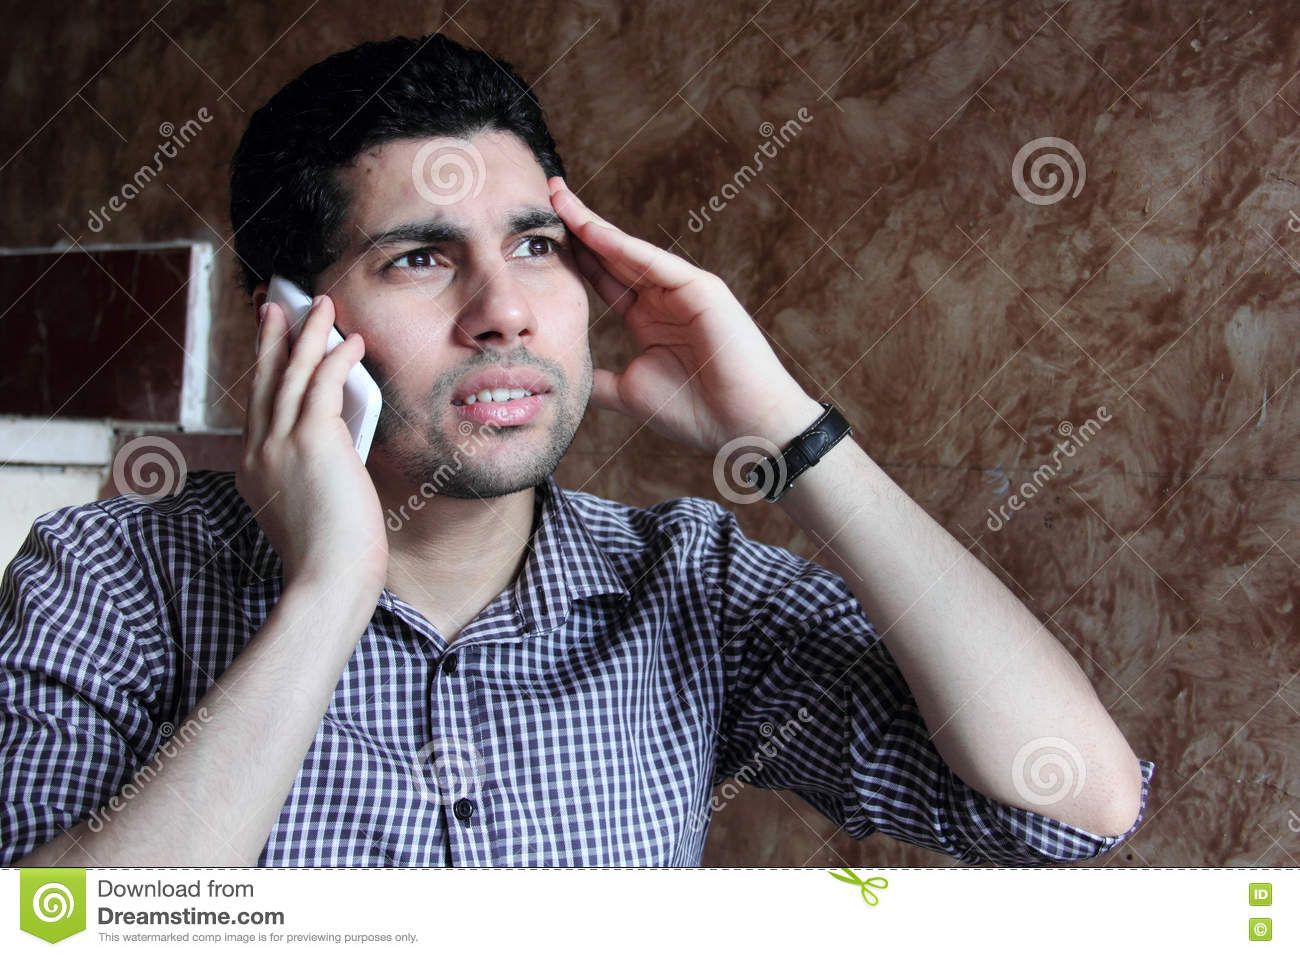phone: (263, 273, 384, 470)
talk: (238, 185, 591, 603)
